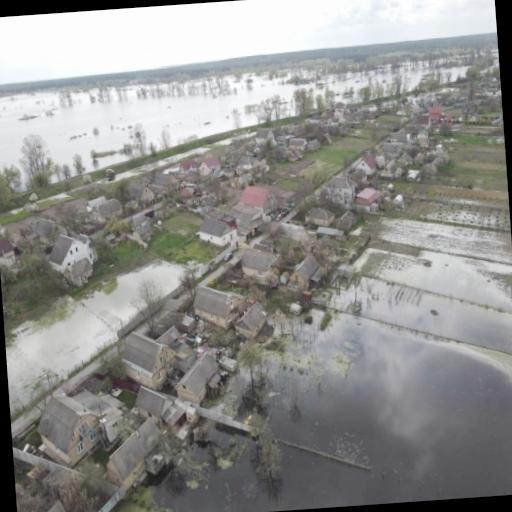flood: (160, 251, 512, 512), (0, 74, 301, 170), (6, 263, 181, 403), (305, 66, 429, 100), (399, 227, 512, 261)
house: (40, 388, 111, 466), (102, 416, 164, 478), (44, 228, 98, 291), (118, 330, 174, 390), (194, 278, 254, 332), (172, 348, 220, 406), (240, 246, 284, 287), (133, 382, 177, 420), (293, 249, 326, 293), (234, 300, 270, 340), (240, 183, 278, 216), (198, 216, 236, 248), (324, 176, 356, 206), (355, 184, 382, 214), (24, 496, 74, 512), (306, 206, 336, 228), (356, 152, 378, 174), (134, 182, 156, 204), (198, 156, 222, 174), (256, 127, 276, 148)
